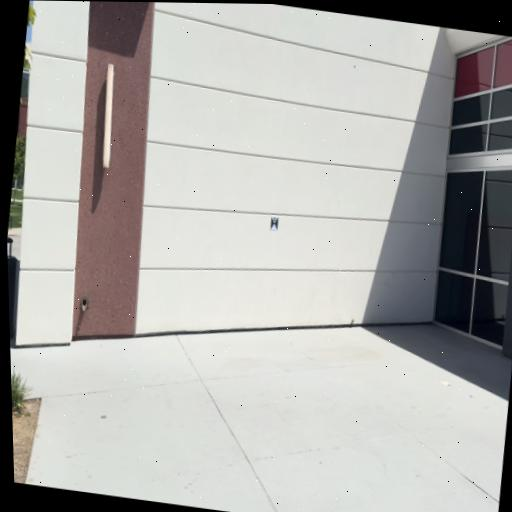target0: (270, 216, 278, 231)
